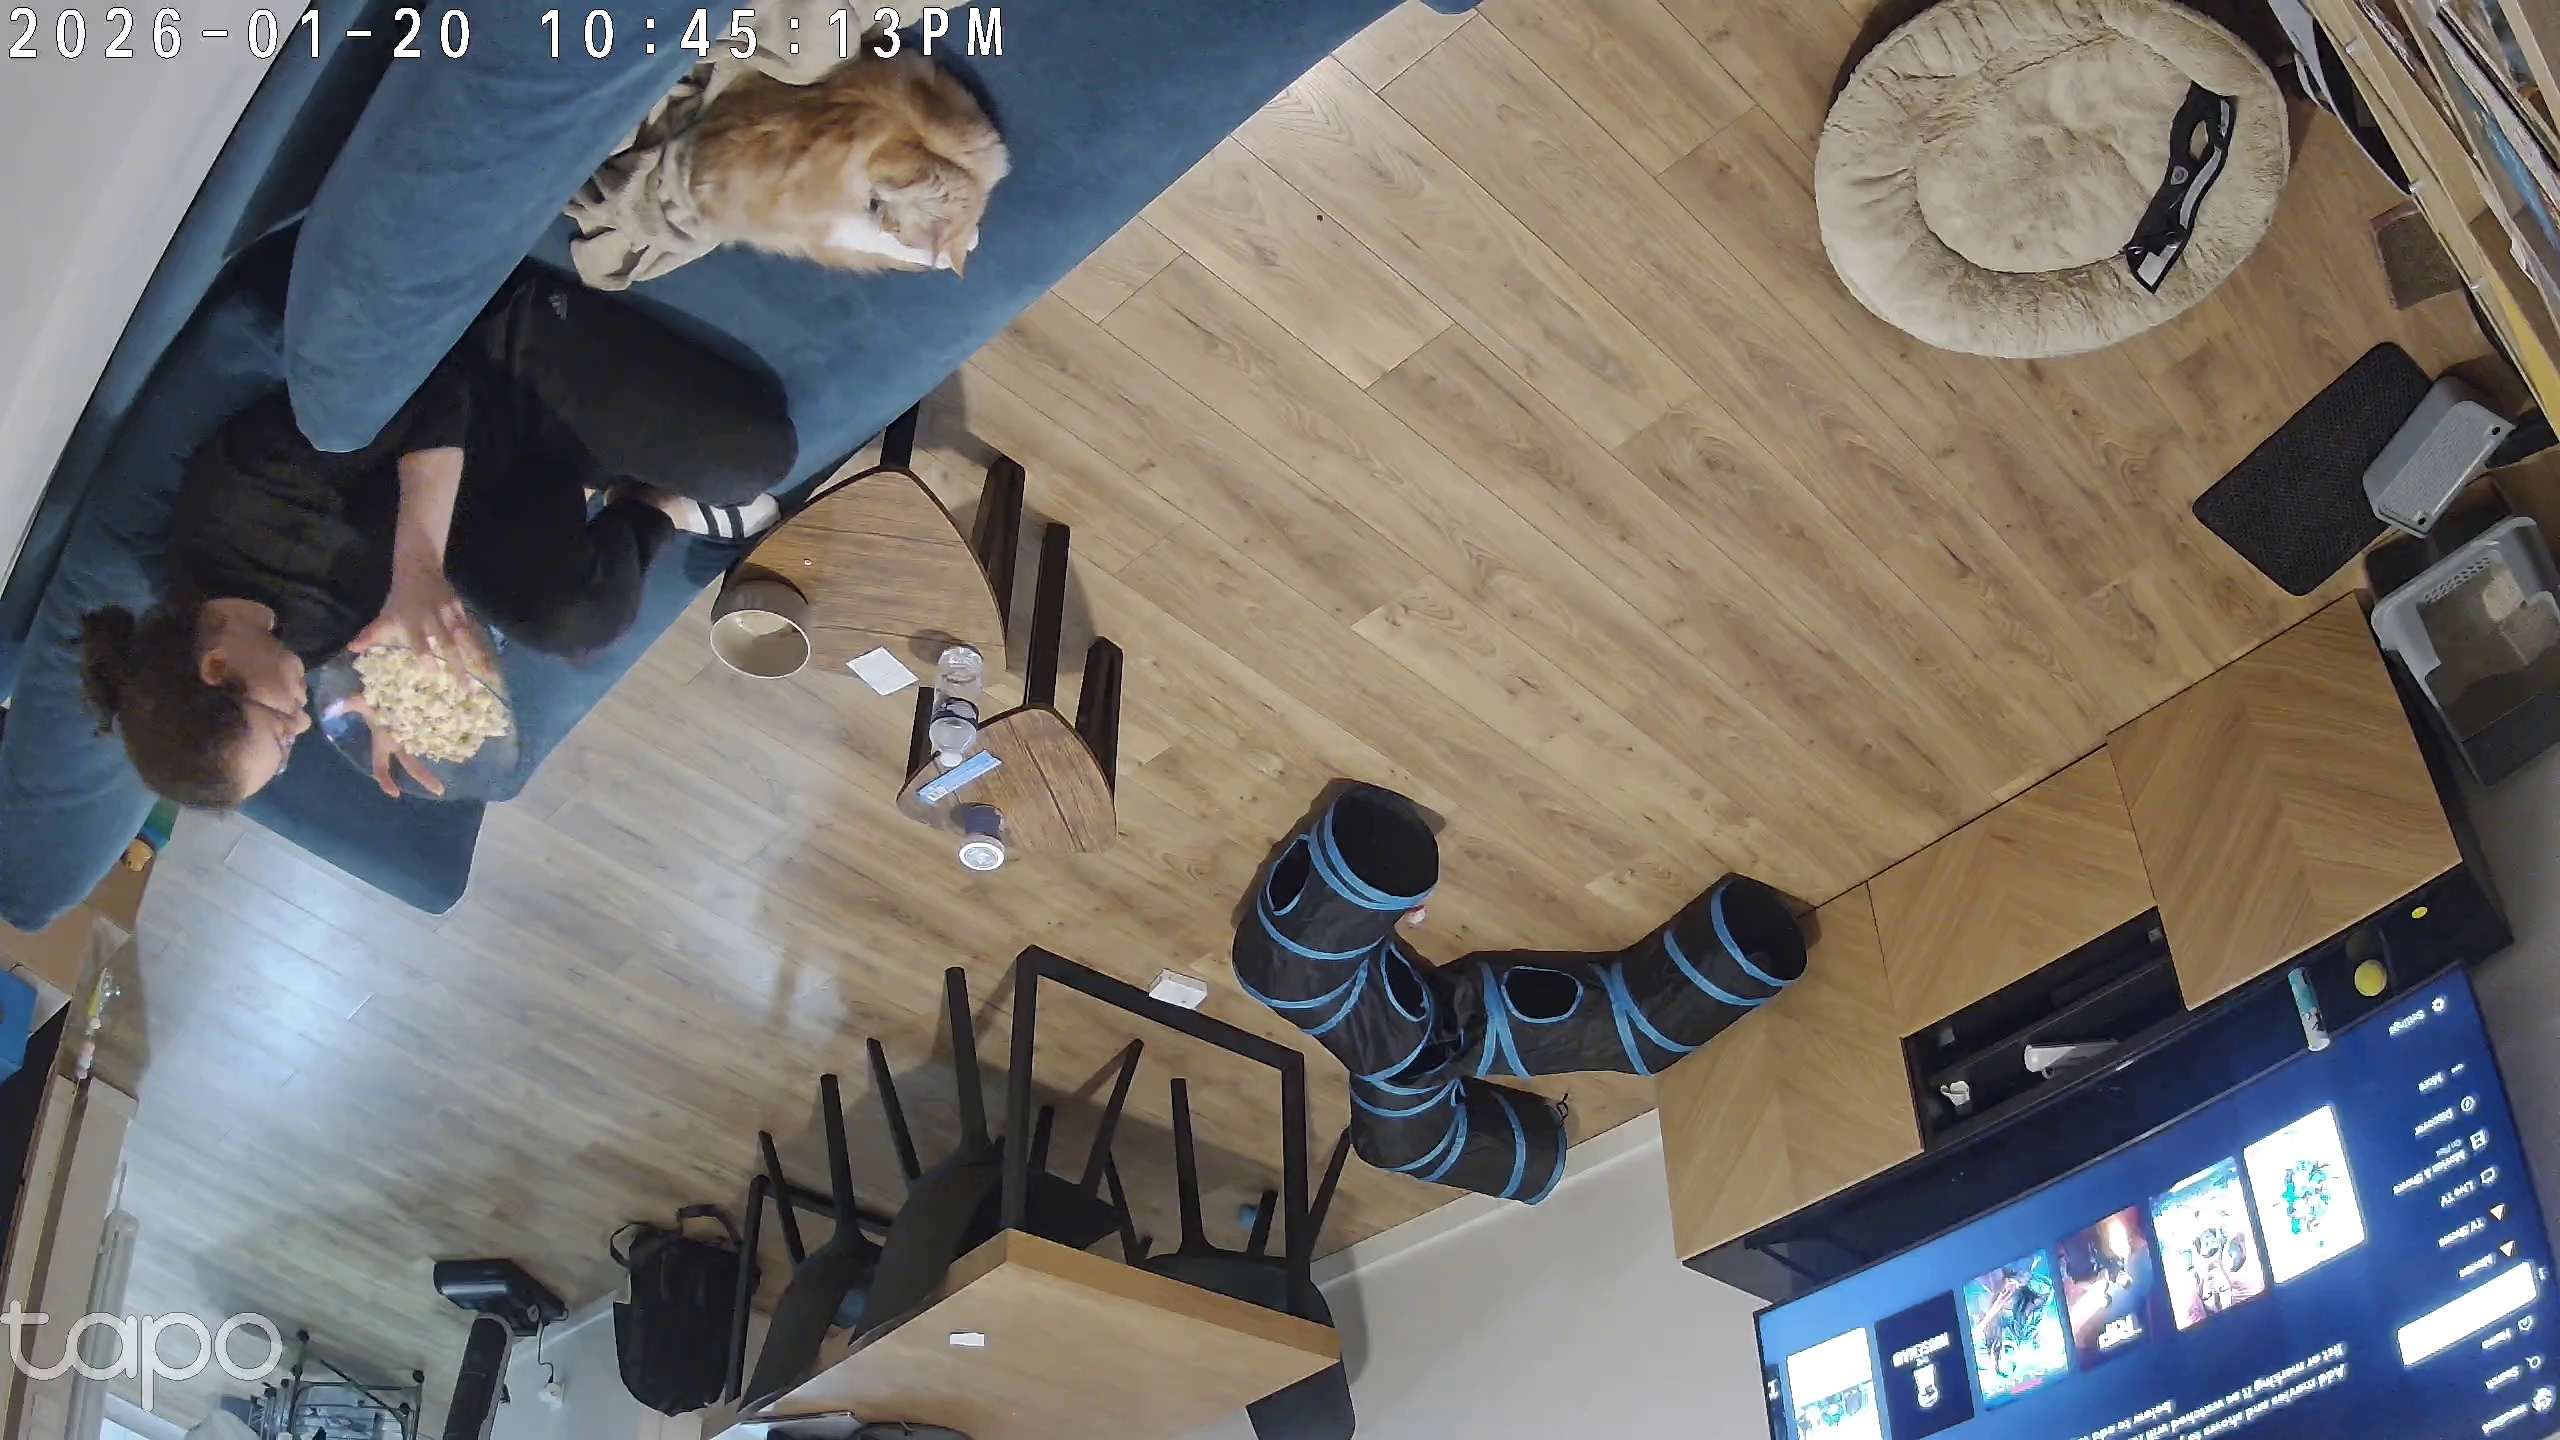Nala: (658, 49, 1048, 292)
